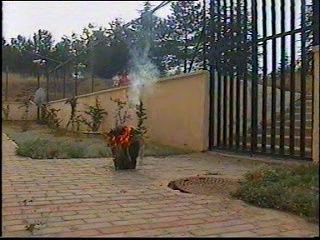smoke: (122, 20, 164, 110)
